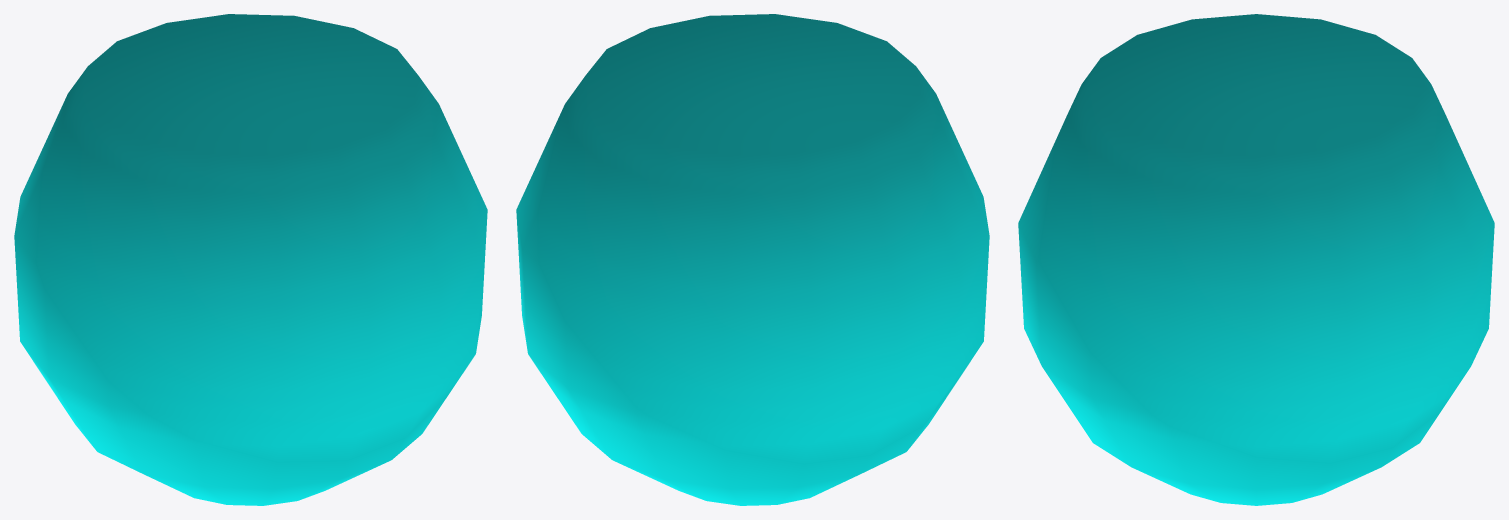
Rendered from WaterDrop_60.glb.
3 views of the same model, side by side, from view 1: azimuth 30°, elevation 25°; view 2: azimuth 150°, elevation 25°; view 3: azimuth 270°, elevation 25° (orthographic).
Visible parts, largest first — view 1: WaterDrop_60; view 2: WaterDrop_60; view 3: WaterDrop_60.
Boxes of the visible parts, x1,y1,x2,y2 form: WaterDrop_60: (14, 14, 487, 505); WaterDrop_60: (516, 14, 989, 505); WaterDrop_60: (1018, 14, 1494, 505).
Bounding box in the file's own units: 0.5885 × 0.5345 × 0.5885.
1 material, 1 textured.
